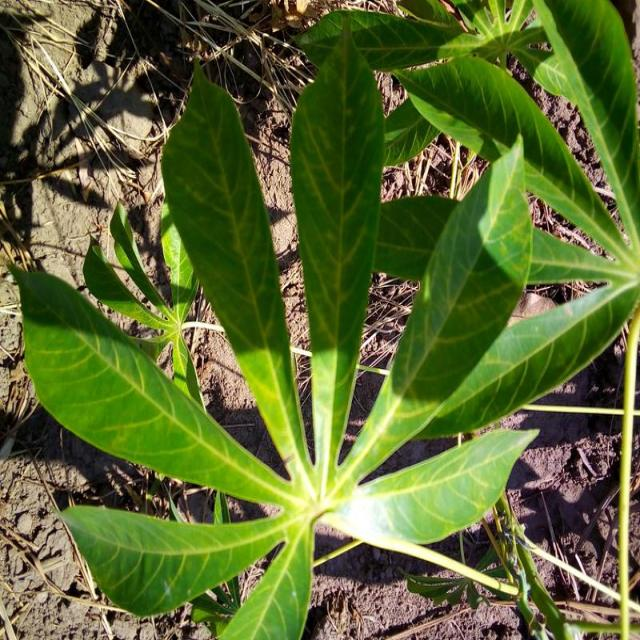cassava leaf: (9, 3, 638, 637), (160, 57, 314, 490), (289, 17, 387, 494)
